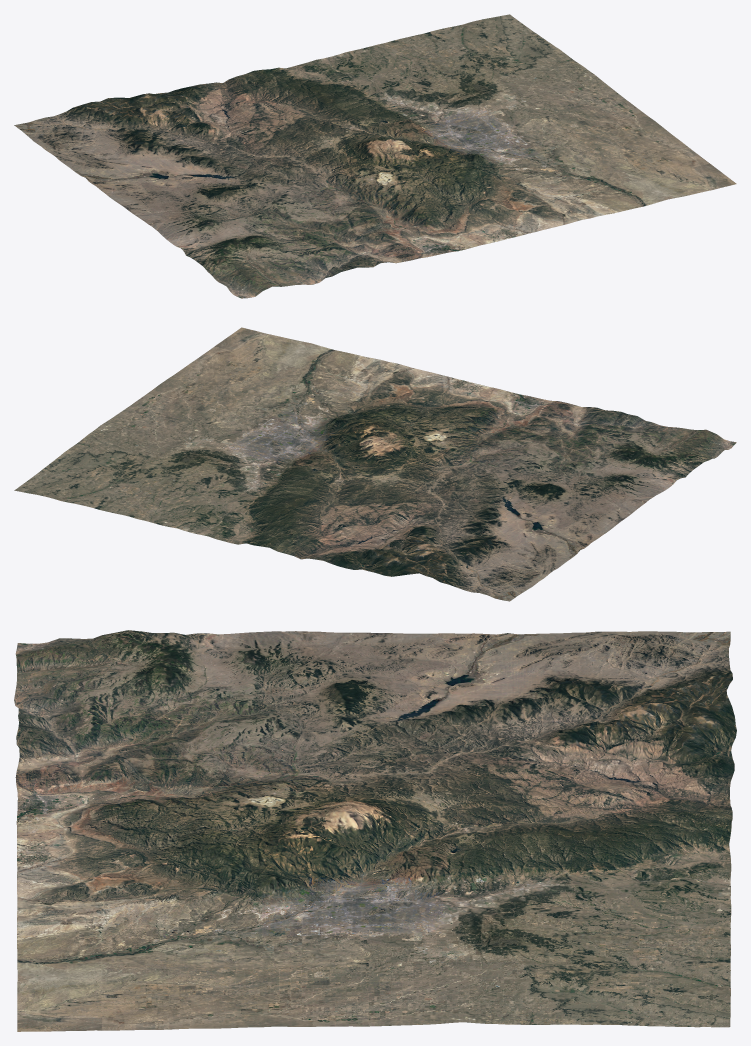
File: pikes_peak.glb
3 views of the same model, one above another, from view 1: azimuth 30°, elevation 25°; view 2: azimuth 150°, elevation 25°; view 3: azimuth 270°, elevation 25° (orthographic). The views are drawn at different scales.
Parts seen in each view (by area): view 1: skfb_offset; view 2: skfb_offset; view 3: skfb_offset.
Boxes of the visible parts, left/top/right/bottom form: skfb_offset: left=14, top=14, right=736, bottom=298; skfb_offset: left=14, top=327, right=736, bottom=601; skfb_offset: left=14, top=630, right=736, bottom=1031.
Bounding box in the file's own units: 167262 × 7895 × 133891.
Materials: 1 (1 with a texture image).
